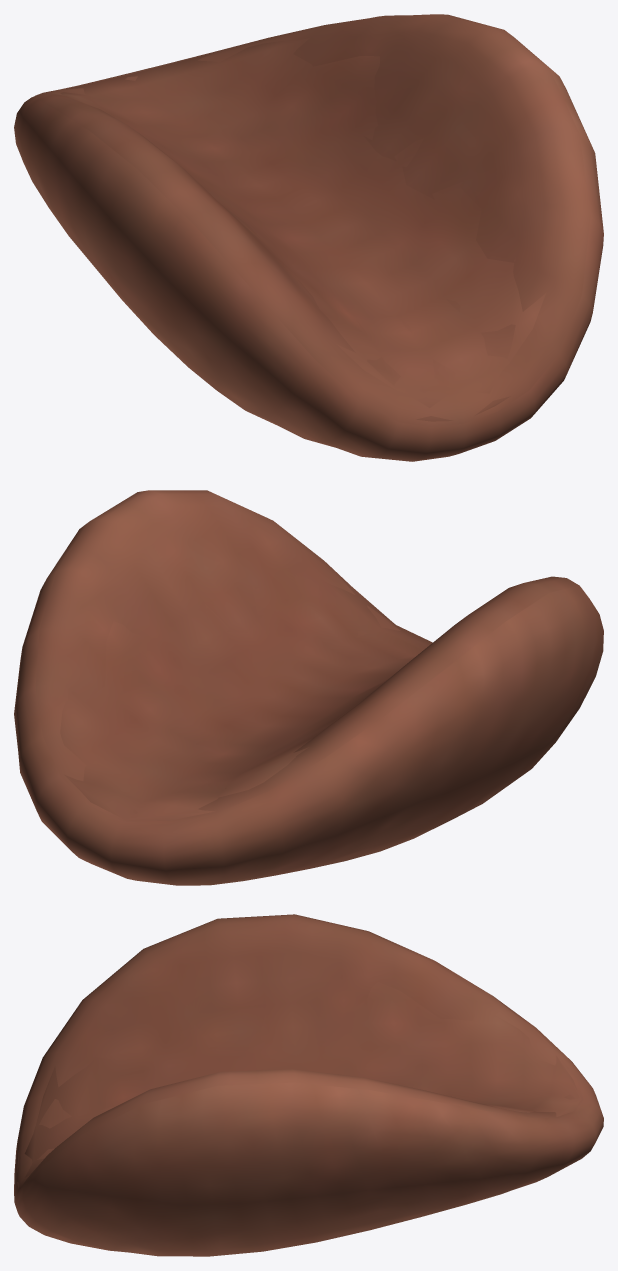
Rendered from Thyroid Gland.fbx.
3 views of the same model, one above another, from view 1: azimuth 30°, elevation 25°; view 2: azimuth 150°, elevation 25°; view 3: azimuth 270°, elevation 25° (orthographic). The views are drawn at different scales.
Visible parts, largest first — view 1: Thyroid Gland, Thyroid Gland low; view 2: Thyroid Gland, Thyroid Gland low; view 3: Thyroid Gland, Thyroid Gland low.
Boxes of the visible parts, left/top/right/bottom form: Thyroid Gland: left=14, top=14, right=603, bottom=461; Thyroid Gland low: left=60, top=38, right=545, bottom=421; Thyroid Gland: left=14, top=490, right=603, bottom=885; Thyroid Gland low: left=60, top=574, right=432, bottom=821; Thyroid Gland: left=14, top=914, right=603, bottom=1256; Thyroid Gland low: left=17, top=982, right=581, bottom=1188.
Size of the model in its own units: 1.76 by 1.08 by 2.38.
